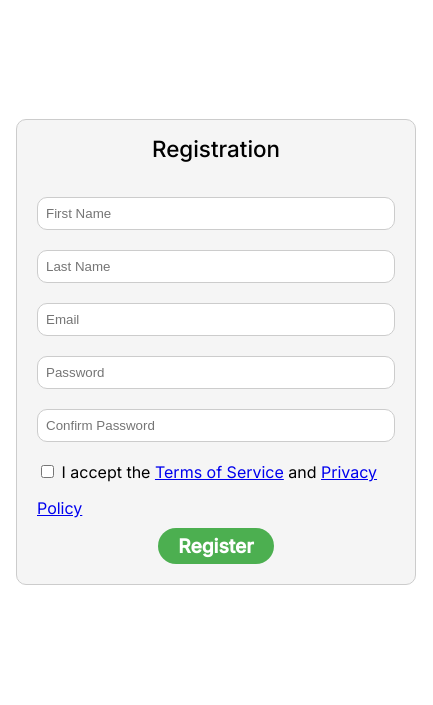
Test case: authentication › should show validation errors when leaving all fields blank
Step 1. Click the button with test id "submit" → (216, 546), box [158,528,274,564]
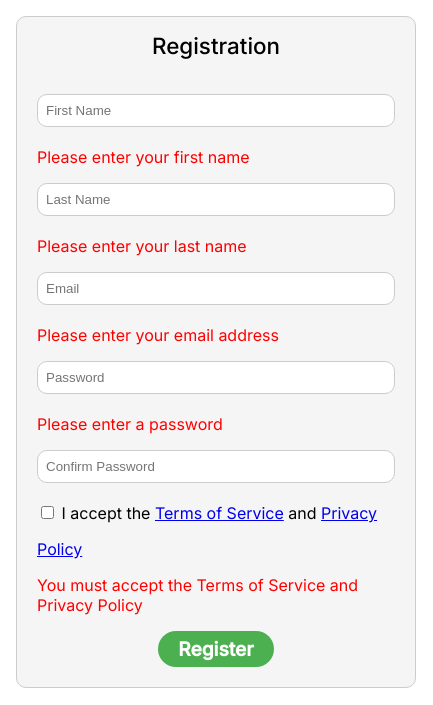
expect the text "Please enter your first name" is shown: met, box [37,147,250,167]
expect the text "Please enter your last name" is shown: met, box [37,236,247,256]
expect the text "Please enter your email address" is shown: met, box [37,325,279,345]
